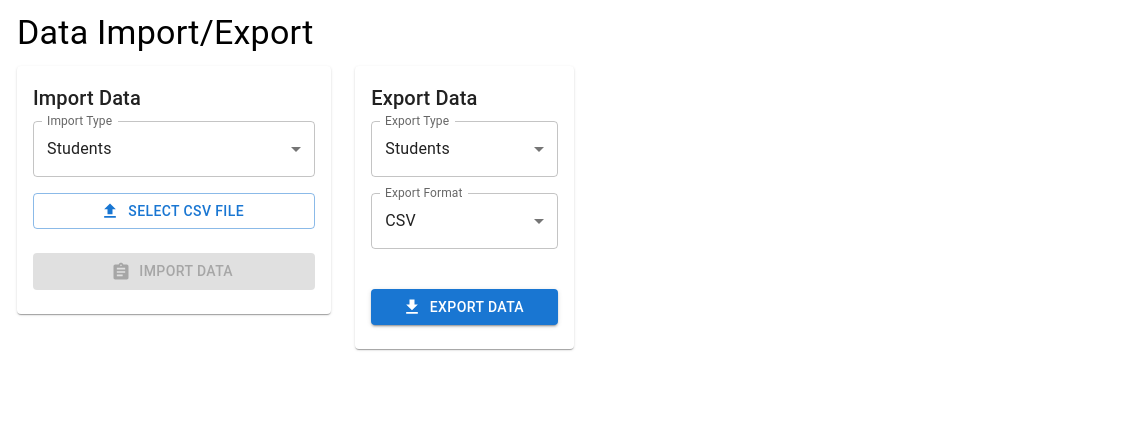
Scenario: DataManager › Export functionality › handles export error
Click the button "Export Data". click: coordinates (465, 307)
box: [371,289,558,325]
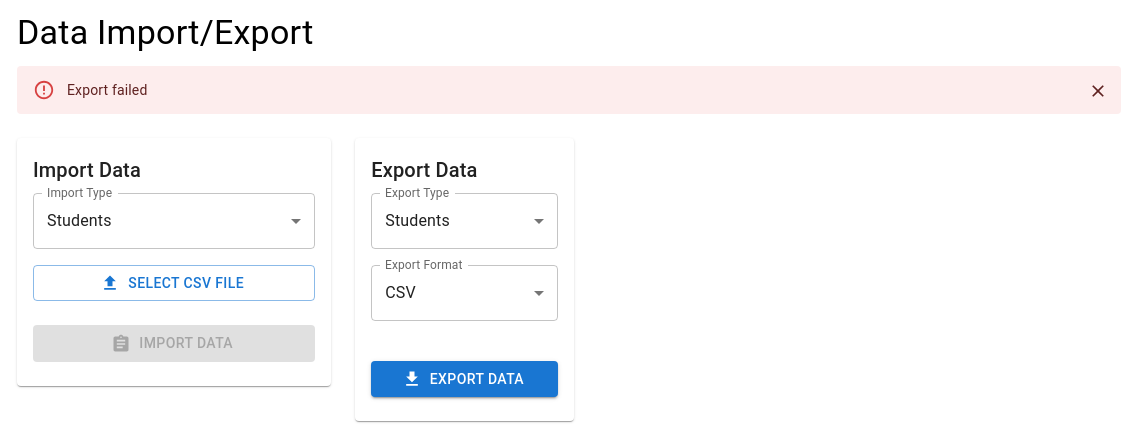
Result: the text "Export failed" is shown at [67,82,148,98]
